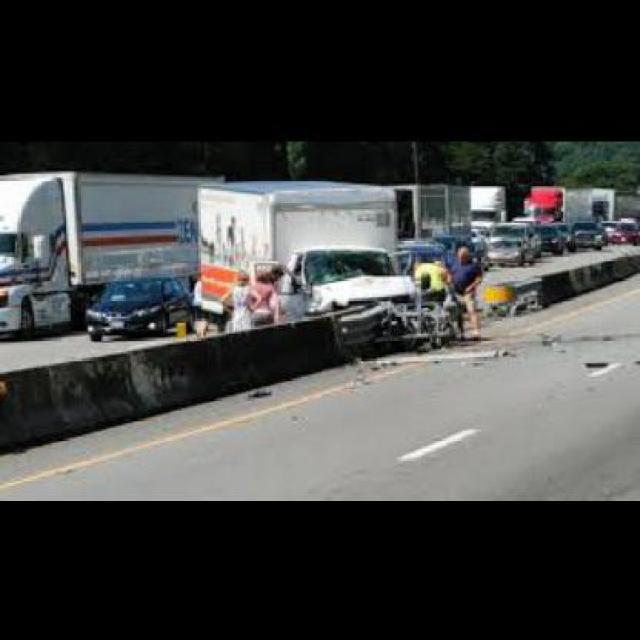accident: (188, 166, 462, 369)
